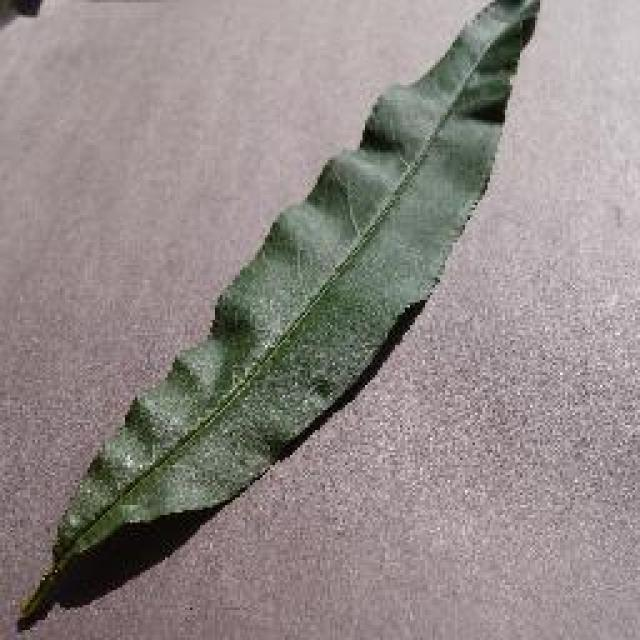Pea_healthy: (137, 85, 524, 517)
